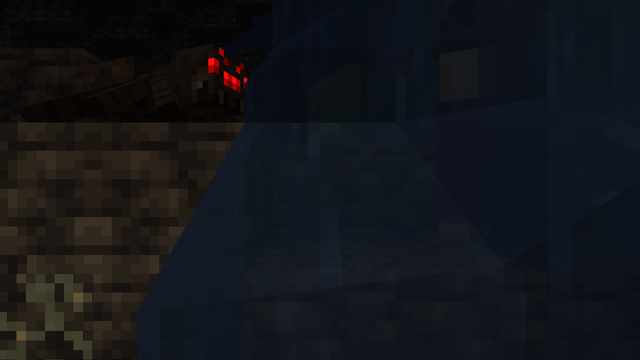araignees: (37, 15, 259, 121)
slimes: (318, 65, 402, 140)
sorcieres: (422, 37, 511, 245)
